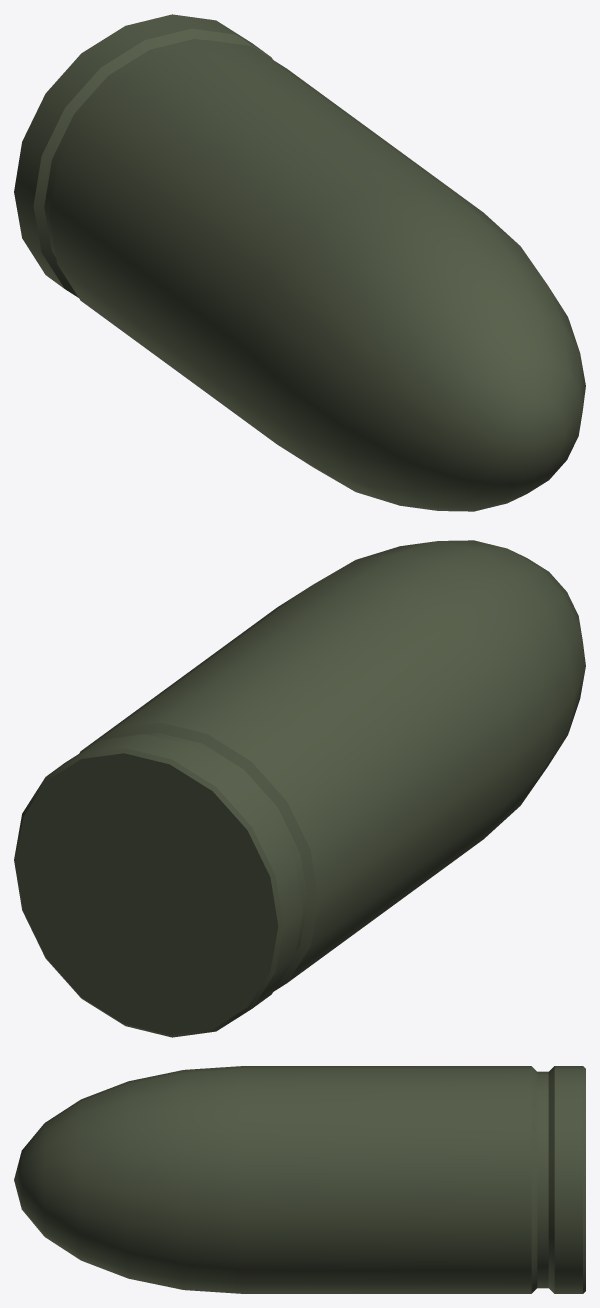
The model's file is Grenade.fbx.
3 views of the same model, one above another, from view 1: azimuth 30°, elevation 25°; view 2: azimuth 150°, elevation 25°; view 3: azimuth 270°, elevation 25° (orthographic). The views are drawn at different scales.
Visible parts, largest first — view 1: Grenade_1; view 2: Grenade_1; view 3: Grenade_1.
Boxes of the visible parts, bbox=[...] form: Grenade_1: bbox=[14, 14, 585, 511]; Grenade_1: bbox=[14, 540, 585, 1037]; Grenade_1: bbox=[14, 1066, 585, 1293].
Bounding box in the file's own units: 4 × 3.94 × 10.
